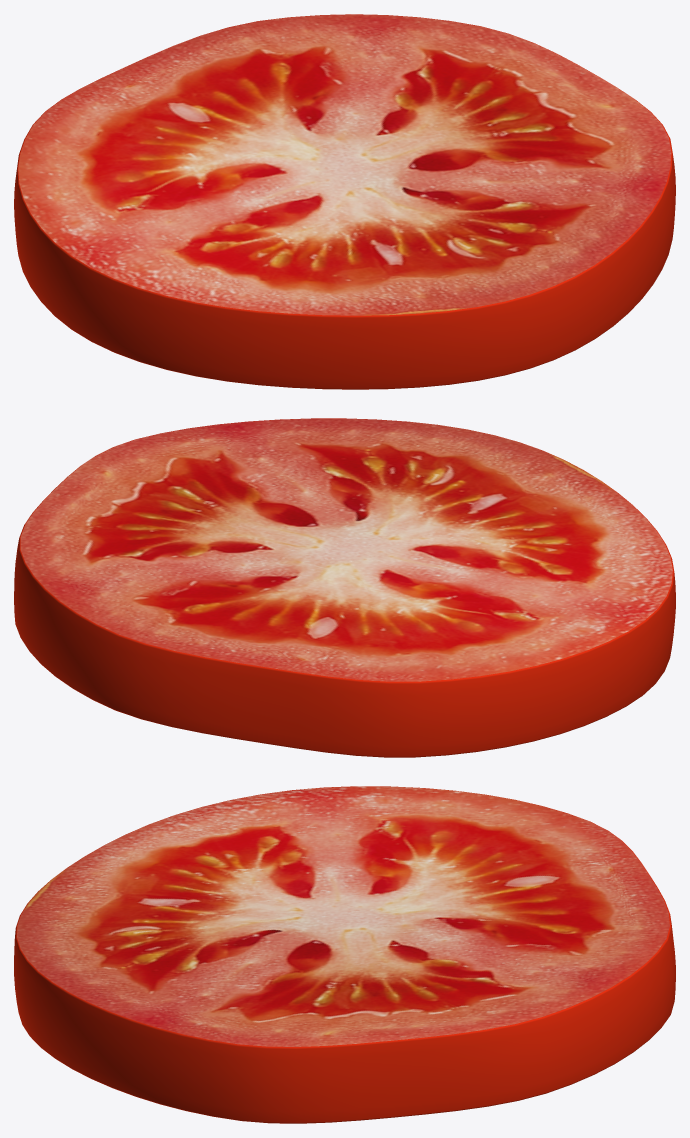
The model's file is domates2.glb.
The picture shows the model from 3 angles, top to bottom: view 1: azimuth 30°, elevation 25°; view 2: azimuth 150°, elevation 25°; view 3: azimuth 270°, elevation 25°; orthographic projection.
Parts seen in each view (by area): view 1: domates2; view 2: domates2; view 3: domates2.
Part boxes in pixels (bbox=[...]): domates2: bbox=[14, 14, 675, 389]; domates2: bbox=[14, 418, 675, 757]; domates2: bbox=[14, 786, 675, 1123].
Bounding box in the file's own units: 0.9048 × 0.1571 × 0.9037.
2 materials, 1 textured.
